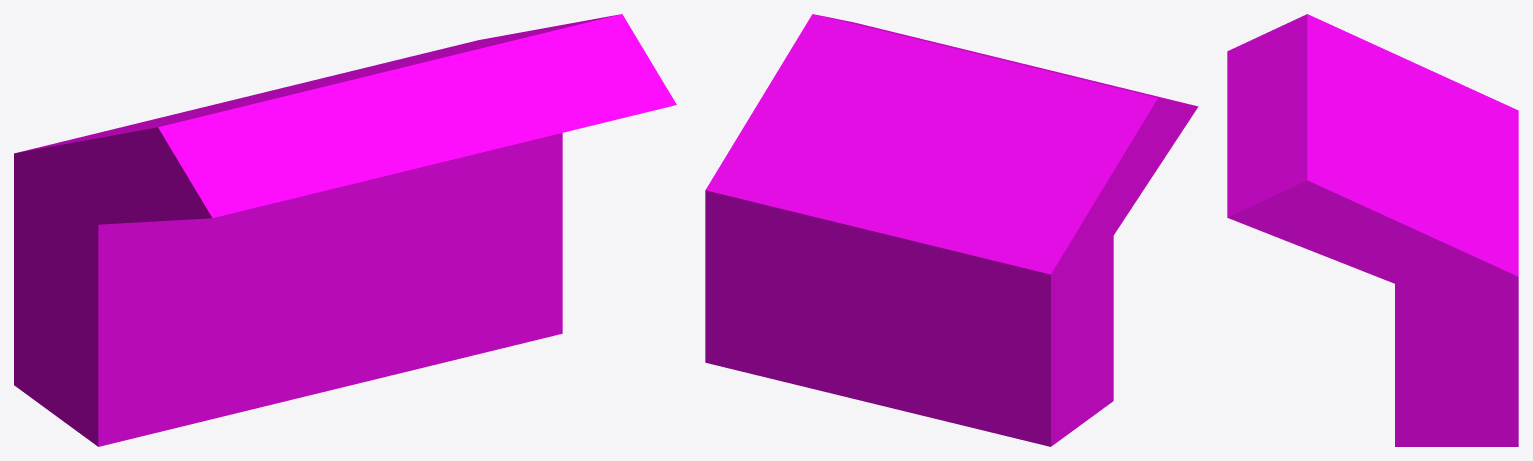
Rendered from gaymenzel.glb.
The picture shows the model from 3 angles, left to right: view 1: azimuth 30°, elevation 25°; view 2: azimuth 150°, elevation 25°; view 3: azimuth 270°, elevation 25°; orthographic projection. The views are drawn at different scales.
Parts seen in each view (by area): view 1: AileEpervier; view 2: AileEpervier; view 3: AileEpervier.
Part boxes in pixels (bbox=[...]): AileEpervier: bbox=[14, 14, 676, 446]; AileEpervier: bbox=[705, 14, 1198, 446]; AileEpervier: bbox=[1227, 14, 1518, 446].
Bounding box in the file's own units: 10.8 × 8.07 × 8.
